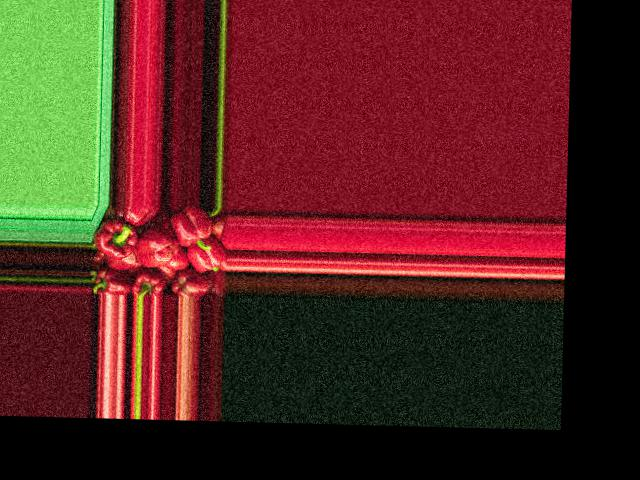bell_pepper: (92, 268, 129, 295)
